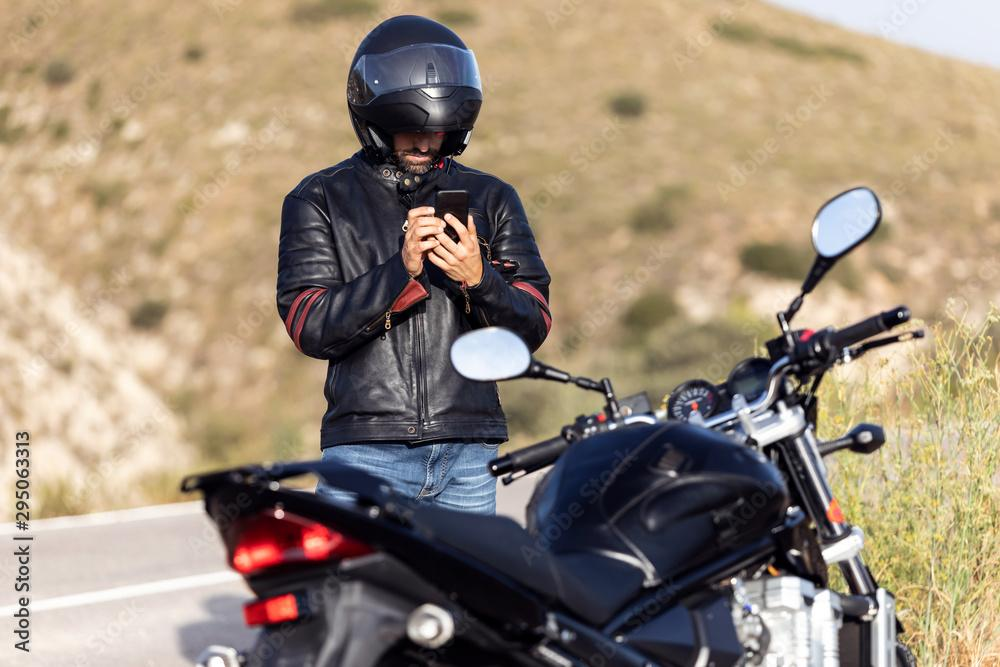helmet: (345, 14, 484, 176)
